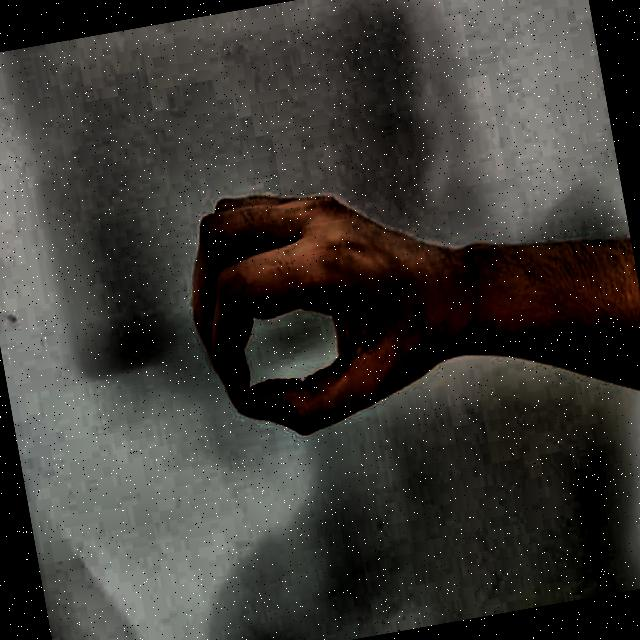O: (140, 112, 494, 482)
